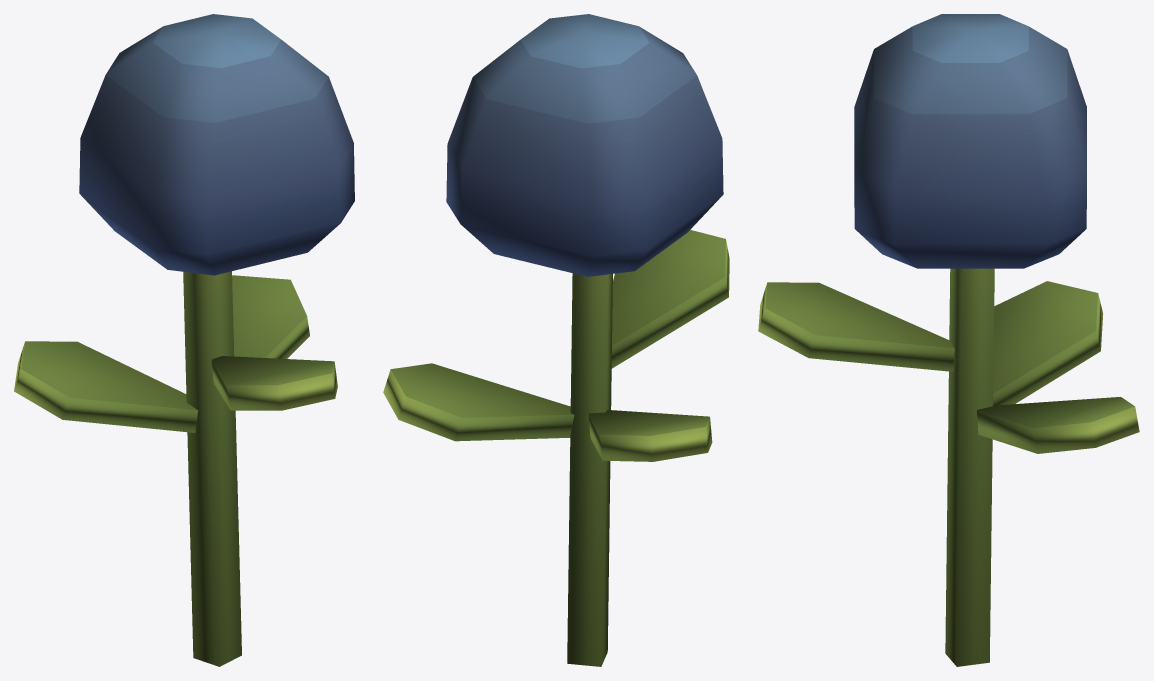
The model's file is flower_2_blue.fbx.
The picture shows the model from 3 angles, left to right: view 1: azimuth 30°, elevation 25°; view 2: azimuth 150°, elevation 25°; view 3: azimuth 270°, elevation 25°; orthographic projection.
Parts seen in each view (by area): view 1: flower_2_blue; view 2: flower_2_blue; view 3: flower_2_blue.
Boxes of the visible parts, x1,y1,x2,y2 form: flower_2_blue: (14,14,354,666); flower_2_blue: (383,14,729,666); flower_2_blue: (758,14,1139,666).
Size of the model in its own units: 50.35 by 99.48 by 54.64.
